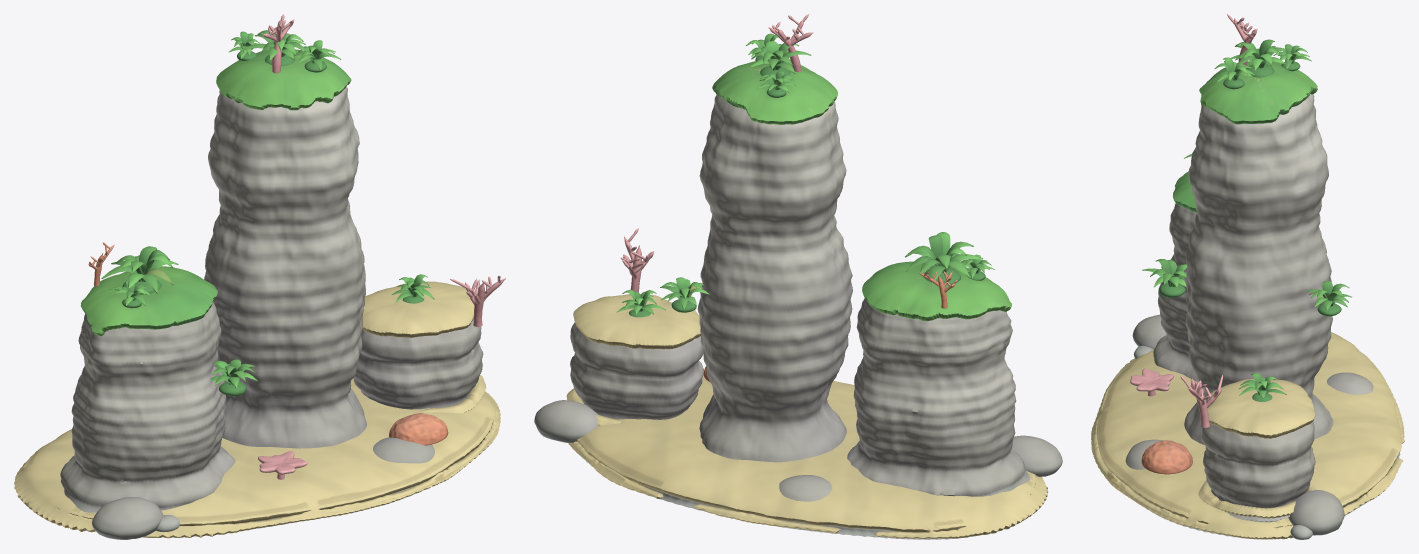
Rendered from CC_B02_SeaStacks.fbx.
3 renders of one model, left to right at view 1: azimuth 30°, elevation 25°; view 2: azimuth 150°, elevation 25°; view 3: azimuth 270°, elevation 25°, orthographic. The views are drawn at different scales.
Visible parts, largest first — view 1: Rock_LOD0, SandCap_LOD0, GrassCap_LOD0, Greenery_LOD0, Coral_LOD0; view 2: Rock_LOD0, SandCap_LOD0, GrassCap_LOD0, Greenery_LOD0, Coral_LOD0; view 3: Rock_LOD0, SandCap_LOD0, GrassCap_LOD0, Greenery_LOD0, Coral_LOD0.
Part boxes in pixels (left/top/right/bottom): Rock_LOD0: left=60, top=86, right=483, bottom=539; SandCap_LOD0: left=14, top=281, right=500, bottom=538; GrassCap_LOD0: left=80, top=49, right=351, bottom=335; Greenery_LOD0: left=101, top=30, right=434, bottom=396; Coral_LOD0: left=88, top=14, right=505, bottom=479; Rock_LOD0: left=534, top=95, right=1062, bottom=539; SandCap_LOD0: left=566, top=294, right=1048, bottom=538; GrassCap_LOD0: left=712, top=61, right=1011, bottom=321; Greenery_LOD0: left=617, top=33, right=994, bottom=317; Coral_LOD0: left=620, top=14, right=957, bottom=381; Rock_LOD0: left=1125, top=94, right=1400, bottom=539; SandCap_LOD0: left=1091, top=332, right=1404, bottom=539; GrassCap_LOD0: left=1173, top=61, right=1317, bottom=212; Greenery_LOD0: left=1142, top=39, right=1351, bottom=401; Coral_LOD0: left=1130, top=14, right=1257, bottom=474.
Size of what is drawn, in the model's own units: 20 by 18 by 12.
